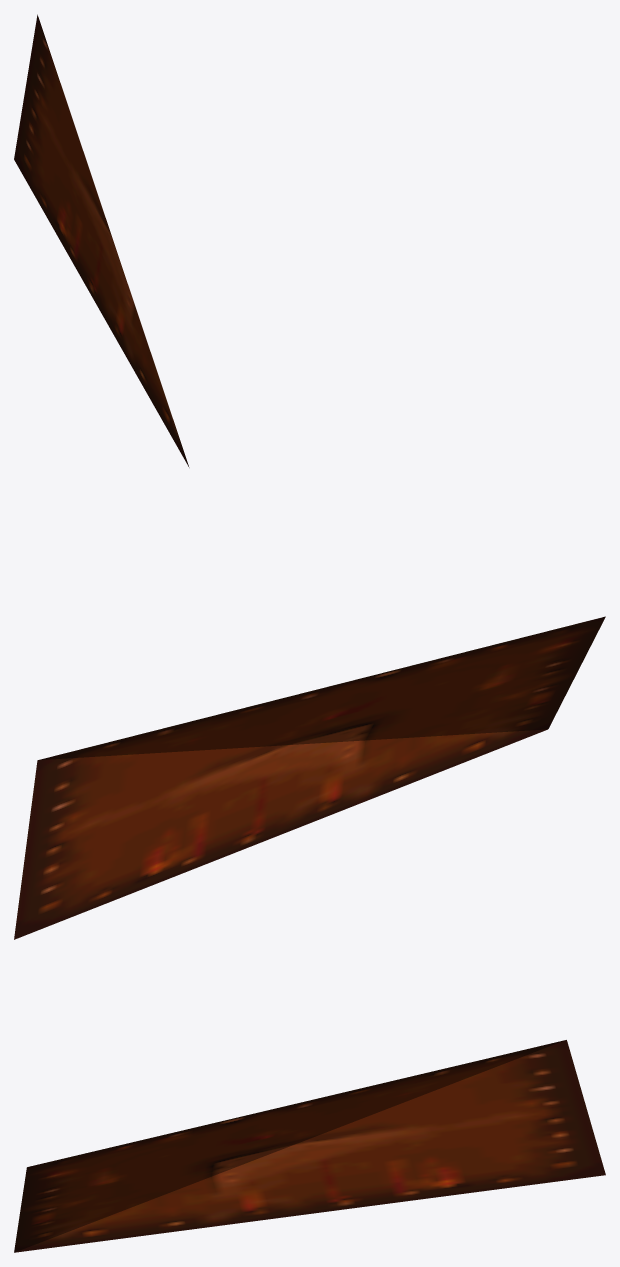
File: Schiff_Bug3_1249.glb
3 views of the same model, one above another, from view 1: azimuth 30°, elevation 25°; view 2: azimuth 150°, elevation 25°; view 3: azimuth 270°, elevation 25° (orthographic). The views are drawn at different scales.
Parts seen in each view (by area): view 1: pPlaneShape10; view 2: pPlaneShape10; view 3: pPlaneShape31.
Boxes of the visible parts, x1,y1,x2,y2 form: pPlaneShape10: [14, 14, 189, 467]; pPlaneShape10: [14, 616, 605, 939]; pPlaneShape31: [14, 1040, 605, 1252].
Bounding box in the file's own units: 1.06 × 0.3477 × 1.33.
Materials: 2 (2 with a texture image).
